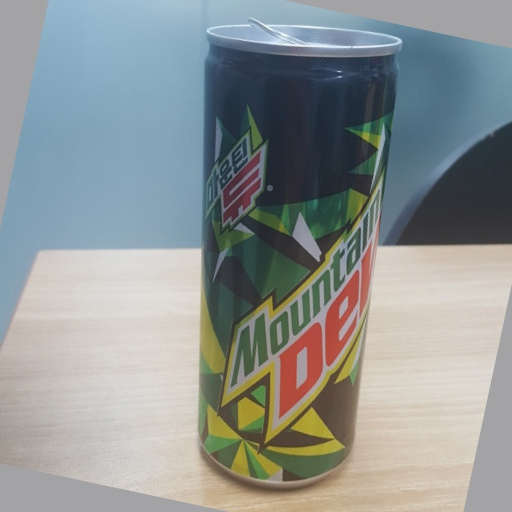Metal_0: (196, 17, 404, 492)
